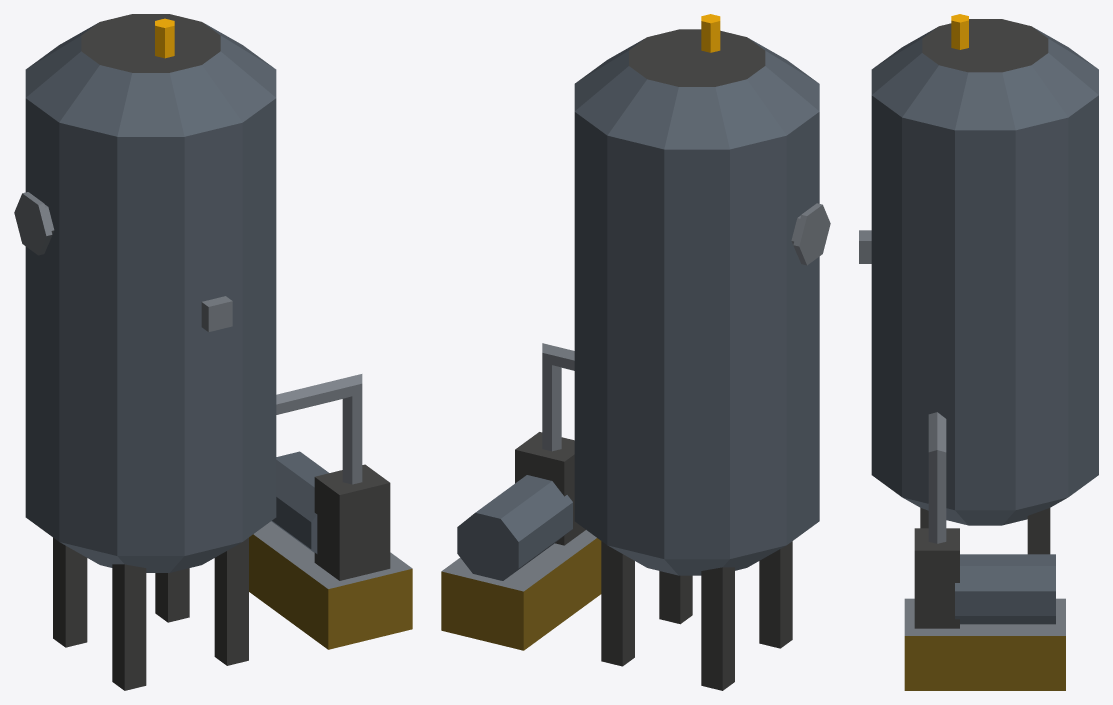
File: ash_tank.glb
3 renders of one model, left to right at view 1: azimuth 30°, elevation 25°; view 2: azimuth 150°, elevation 25°; view 3: azimuth 270°, elevation 25°, orthographic. The views are drawn at different scales.
Visible parts, largest first — view 1: ash_tank; view 2: ash_tank; view 3: ash_tank.
Boxes of the visible parts, box(x1,y1,x2,y2) form: ash_tank: box(14, 14, 412, 690); ash_tank: box(441, 14, 830, 690); ash_tank: box(859, 14, 1098, 690).
Bounding box in the file's own units: 1.4 × 2.52 × 0.95.
